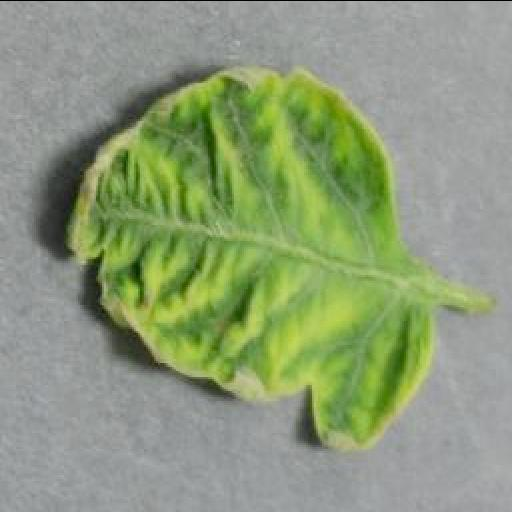disease_tomato: (66, 68, 448, 448)
